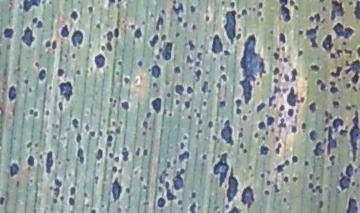tarspot: (239, 35, 266, 105), (211, 149, 229, 188), (350, 110, 360, 163), (224, 9, 237, 43), (227, 169, 239, 202), (220, 119, 234, 146), (333, 21, 354, 39), (285, 86, 300, 108), (59, 81, 74, 102), (242, 185, 254, 210), (306, 26, 319, 49), (277, 1, 291, 22), (331, 1, 345, 22), (21, 27, 35, 46), (173, 168, 185, 190), (328, 126, 337, 155), (71, 30, 84, 48), (165, 181, 176, 201), (322, 34, 333, 54), (112, 177, 121, 201), (313, 139, 325, 157), (162, 43, 173, 61), (93, 53, 106, 68), (23, 1, 40, 12), (45, 152, 54, 172), (212, 35, 222, 53), (75, 147, 85, 164), (152, 97, 162, 114), (7, 84, 17, 100), (154, 16, 164, 32), (330, 64, 342, 77), (344, 164, 355, 178), (339, 178, 350, 192), (347, 199, 358, 213), (174, 84, 186, 96), (148, 34, 159, 47), (307, 12, 320, 23), (9, 163, 19, 177), (151, 65, 161, 79), (174, 2, 184, 16), (94, 146, 103, 161), (351, 60, 360, 75), (3, 27, 14, 39), (178, 151, 190, 162), (277, 160, 289, 171), (37, 69, 47, 82), (60, 24, 69, 38), (289, 69, 298, 83), (267, 94, 276, 108), (259, 144, 270, 155), (354, 1, 360, 21), (71, 118, 80, 131), (200, 79, 209, 92), (187, 37, 195, 51), (156, 197, 166, 208), (309, 63, 321, 72), (334, 45, 343, 57), (308, 131, 317, 143), (122, 149, 130, 162), (278, 33, 287, 44), (273, 84, 282, 95), (273, 143, 282, 154), (194, 70, 202, 82), (352, 73, 360, 85), (309, 101, 317, 113), (332, 119, 344, 127), (57, 100, 64, 113), (35, 19, 44, 29), (121, 101, 130, 111), (27, 156, 36, 166), (134, 29, 143, 39), (218, 99, 227, 109), (256, 102, 265, 112), (266, 115, 275, 125), (74, 132, 82, 143), (240, 6, 248, 17), (133, 145, 141, 156), (279, 118, 287, 129), (71, 9, 78, 21), (107, 29, 113, 43), (54, 178, 63, 187), (185, 55, 194, 64), (344, 47, 353, 56), (189, 4, 197, 14), (140, 199, 150, 207), (218, 63, 226, 73), (234, 98, 242, 108), (282, 72, 290, 82), (230, 206, 241, 213), (86, 5, 94, 14), (57, 67, 65, 76), (68, 187, 76, 196), (203, 14, 211, 23), (161, 168, 169, 177), (195, 51, 203, 60), (220, 74, 228, 83), (272, 66, 280, 75), (257, 121, 265, 130), (330, 86, 339, 94), (345, 103, 354, 111), (339, 129, 348, 137), (322, 110, 331, 118), (315, 184, 323, 193), (106, 133, 113, 143), (190, 189, 197, 199), (187, 85, 194, 95), (290, 124, 297, 134), (190, 202, 196, 213), (22, 77, 30, 85), (122, 76, 130, 84), (88, 130, 96, 138), (68, 197, 76, 205), (96, 129, 104, 137), (136, 60, 144, 68), (228, 1, 236, 9), (183, 100, 191, 108), (173, 65, 181, 73), (106, 43, 113, 52), (351, 85, 358, 94), (332, 100, 339, 109), (328, 153, 335, 162), (114, 28, 120, 38), (179, 140, 185, 150), (208, 120, 214, 130), (355, 46, 360, 58), (301, 120, 307, 130), (70, 52, 77, 60), (74, 67, 81, 75), (95, 22, 102, 30), (129, 23, 137, 30), (160, 33, 167, 41), (64, 156, 72, 163), (138, 174, 145, 182), (158, 176, 165, 184), (177, 198, 184, 206), (296, 49, 303, 57), (271, 77, 279, 84), (277, 104, 284, 112), (287, 108, 294, 116), (344, 68, 352, 75), (263, 189, 271, 196), (282, 175, 289, 183), (52, 39, 57, 50), (1, 196, 6, 207), (29, 108, 35, 117), (54, 188, 60, 197), (142, 120, 148, 129), (330, 51, 336, 60), (274, 184, 280, 193), (94, 175, 99, 185), (107, 151, 114, 158), (124, 187, 131, 194), (51, 134, 58, 141), (174, 98, 181, 105), (235, 108, 242, 115), (252, 132, 259, 139), (45, 40, 51, 48), (27, 85, 33, 93), (47, 83, 53, 91), (100, 45, 106, 53), (84, 123, 90, 131), (114, 155, 120, 163), (258, 2, 264, 10), (215, 81, 221, 89), (242, 114, 248, 122), (344, 59, 350, 67), (266, 168, 272, 176), (292, 155, 298, 163), (33, 61, 39, 68), (44, 108, 50, 115), (117, 59, 123, 66), (108, 96, 114, 103), (116, 127, 122, 134), (155, 54, 161, 61), (157, 46, 163, 53), (160, 8, 166, 15), (182, 22, 188, 29), (251, 6, 257, 13), (146, 112, 152, 119), (141, 130, 148, 136), (197, 128, 204, 134), (187, 113, 193, 120), (202, 99, 208, 106), (224, 50, 231, 56), (272, 52, 279, 58), (238, 131, 244, 138), (238, 142, 244, 149), (242, 147, 248, 154), (316, 78, 322, 85), (345, 82, 351, 89), (329, 80, 336, 86), (255, 80, 262, 86), (291, 176, 298, 182), (351, 180, 357, 187), (308, 182, 314, 189), (112, 165, 117, 173), (202, 153, 207, 161), (321, 5, 326, 13), (261, 135, 266, 143), (320, 83, 325, 91), (319, 200, 324, 208), (212, 55, 217, 63), (32, 17, 38, 23), (191, 24, 197, 30), (256, 11, 262, 17), (38, 153, 44, 159), (33, 142, 39, 148), (143, 148, 147, 157), (182, 134, 188, 140), (195, 61, 201, 67), (212, 135, 218, 141), (290, 1, 296, 7), (293, 5, 299, 11), (298, 29, 304, 35), (280, 45, 286, 51), (274, 136, 280, 142), (308, 174, 314, 180), (33, 111, 38, 118), (115, 70, 120, 77), (83, 191, 88, 198), (175, 31, 180, 38), (118, 166, 123, 173), (152, 81, 157, 88), (282, 57, 289, 62), (324, 117, 329, 124), (304, 161, 311, 166), (340, 171, 345, 178), (199, 42, 204, 49), (27, 142, 32, 148), (60, 195, 65, 201), (91, 208, 97, 213), (111, 120, 116, 126), (48, 185, 53, 191), (196, 112, 201, 118), (167, 112, 173, 117), (348, 1, 354, 6), (342, 41, 347, 47), (300, 97, 305, 103), (270, 126, 275, 132), (264, 130, 269, 136), (267, 45, 272, 51), (224, 204, 230, 209), (266, 181, 272, 186), (260, 173, 265, 179), (282, 196, 287, 202), (323, 126, 328, 132), (269, 29, 274, 35), (167, 161, 171, 168), (29, 177, 33, 184), (53, 198, 58, 203), (167, 93, 172, 98), (198, 119, 202, 125), (205, 70, 209, 76), (55, 123, 59, 129), (109, 1, 116, 4), (277, 46, 280, 53), (172, 1, 177, 5), (178, 17, 182, 22), (247, 165, 252, 169), (315, 176, 320, 180), (222, 1, 225, 7), (58, 161, 62, 165), (319, 1, 326, 3), (117, 1, 122, 3)
